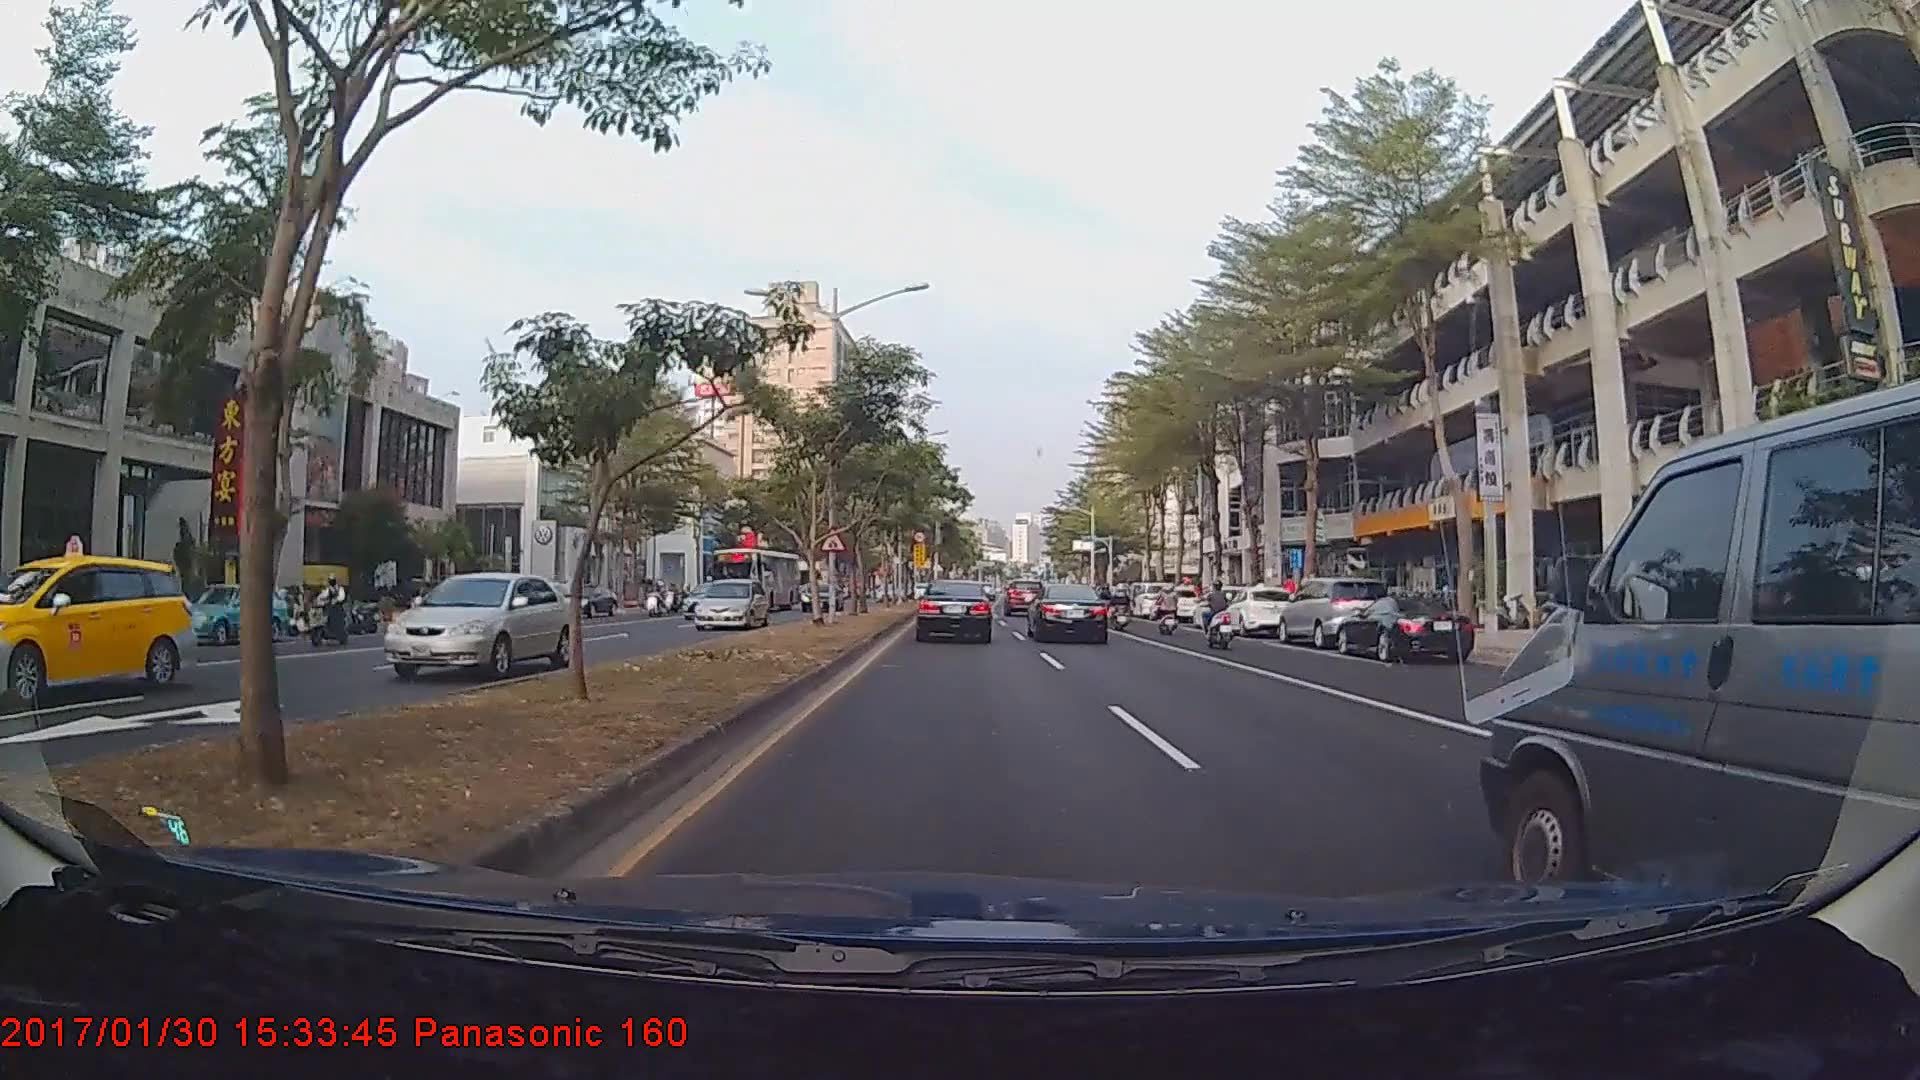rider: (296, 573, 360, 644), (1196, 581, 1242, 655), (1149, 582, 1185, 642), (1109, 584, 1133, 635)
vehicle: (1497, 406, 1914, 899), (0, 556, 195, 701), (378, 572, 573, 679), (1332, 594, 1475, 663), (1279, 575, 1395, 651), (180, 583, 290, 641), (709, 548, 800, 617), (914, 578, 995, 644), (1025, 580, 1109, 642), (689, 578, 770, 631), (1218, 584, 1295, 636), (1188, 585, 1250, 630), (678, 581, 736, 618), (1004, 576, 1048, 614), (1152, 587, 1199, 622), (798, 581, 844, 612)
